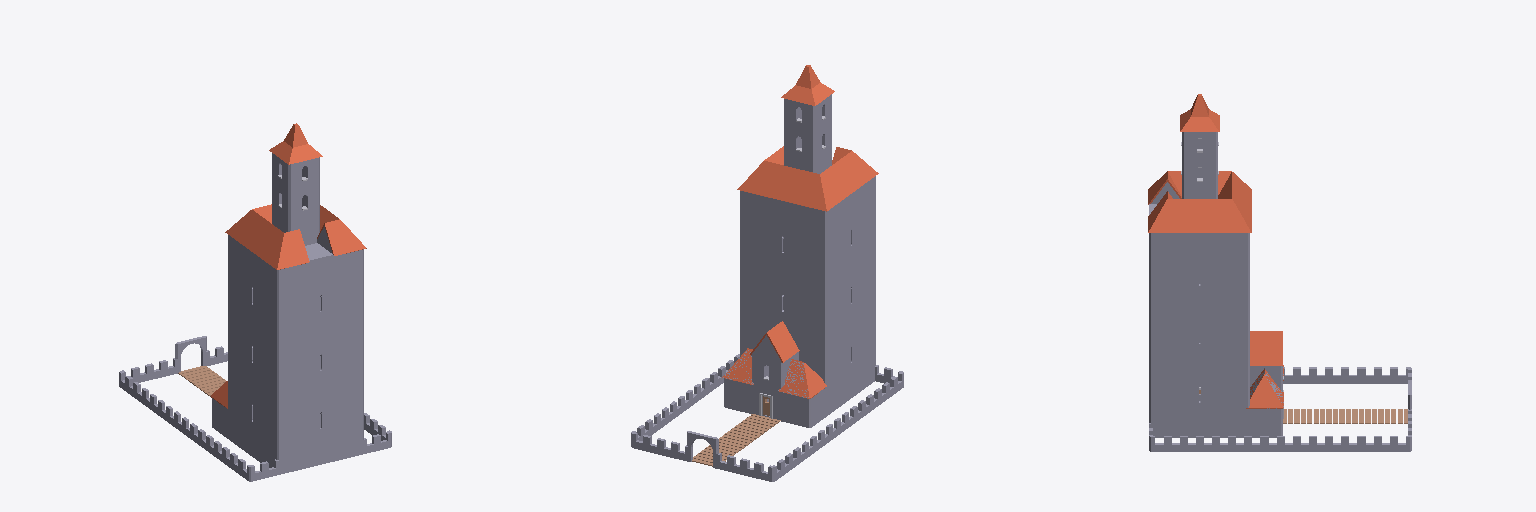
Rendered from Tower.obj.
3 renders of one model, left to right at view 1: azimuth 30°, elevation 25°; view 2: azimuth 150°, elevation 25°; view 3: azimuth 270°, elevation 25°, orthographic.
Size of the model in its own units: 5.12 by 10.99 by 8.17.